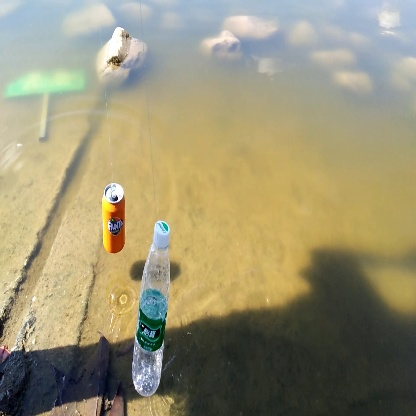bottle: (132, 221, 170, 397), (95, 179, 129, 251)
